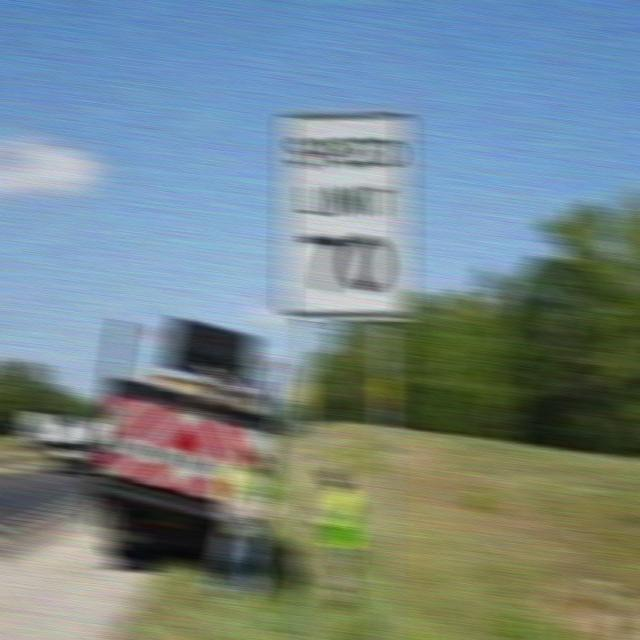speedLimit70: (268, 100, 409, 319)
